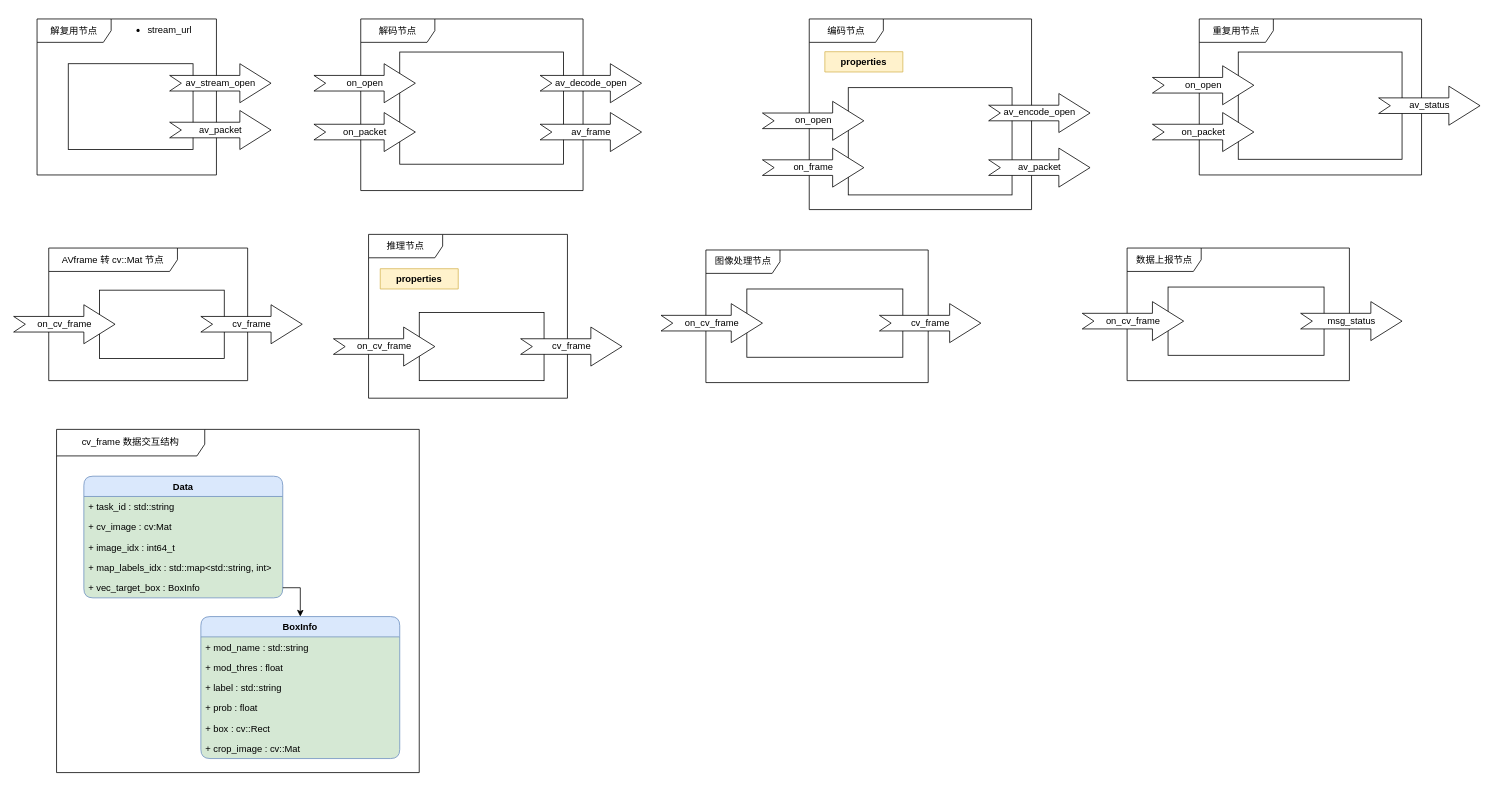
Some shapes in this 1494 by 787 pixel diagram are drawn without their labels. The centre of each missing label's shape, as x and y in pixels:
"AvToCv" belongs at (161,323).
"Decoder" belongs at (481,107).
"Demuxer" belongs at (130,106).
"Encoder" belongs at (929,141).
"Graphics" belongs at (824,322).
"Reasoning" belongs at (481,346).
"Remuxer" belongs at (1319,105).
"Report" belongs at (1245,320).
